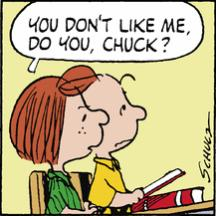charlie: (80, 72, 150, 216)
